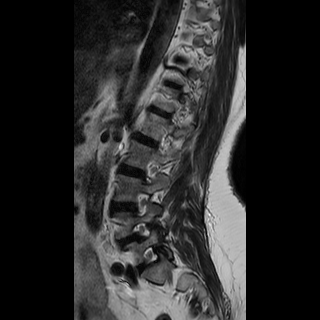LFS0: (136, 242, 162, 271), (128, 189, 151, 220), (127, 217, 153, 243)
